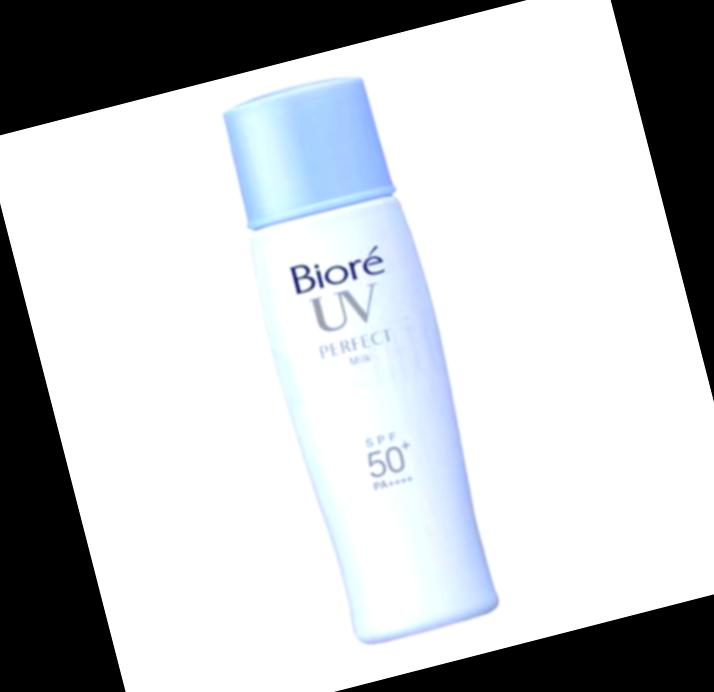cosmetic: (204, 65, 521, 650)
